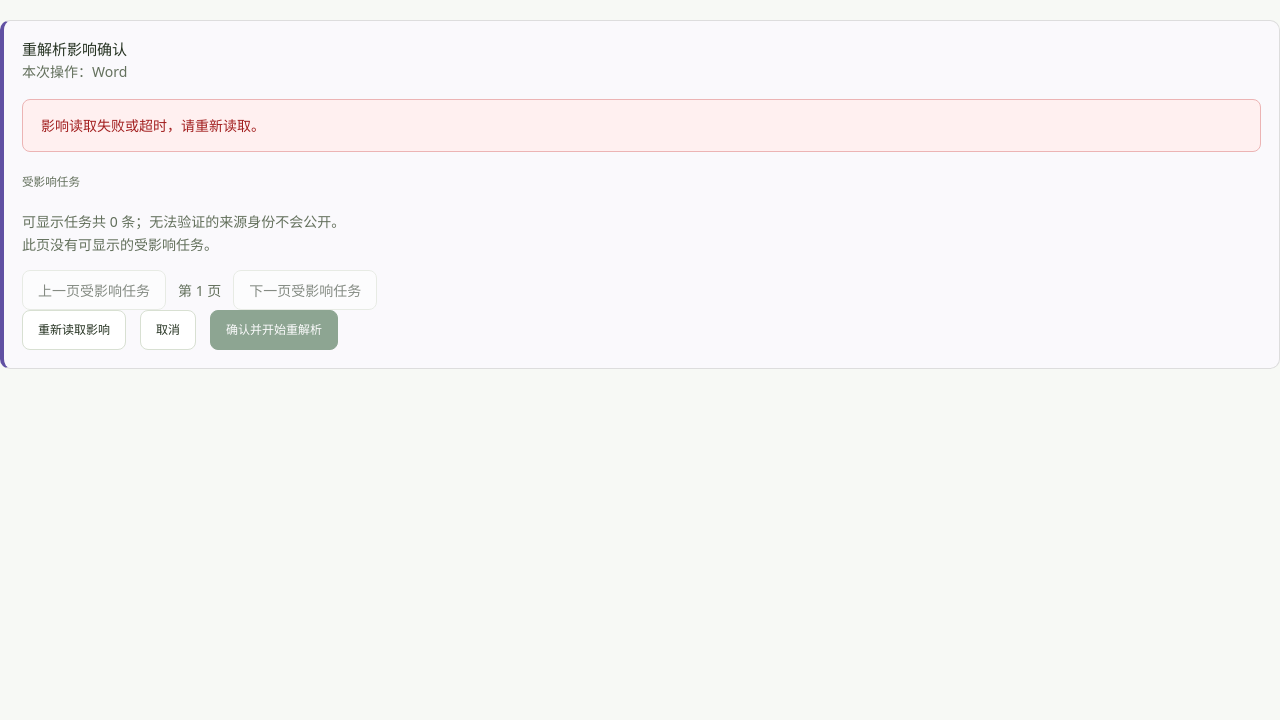
Scenario: assessment timeout is bounded and suppresses the late response after a retry
Expected: the message reads "影响读取失败或超时，请重新读取。", [41, 116, 265, 135]
Click the button "重新读取影响" at (74, 330), box [22, 310, 126, 350]
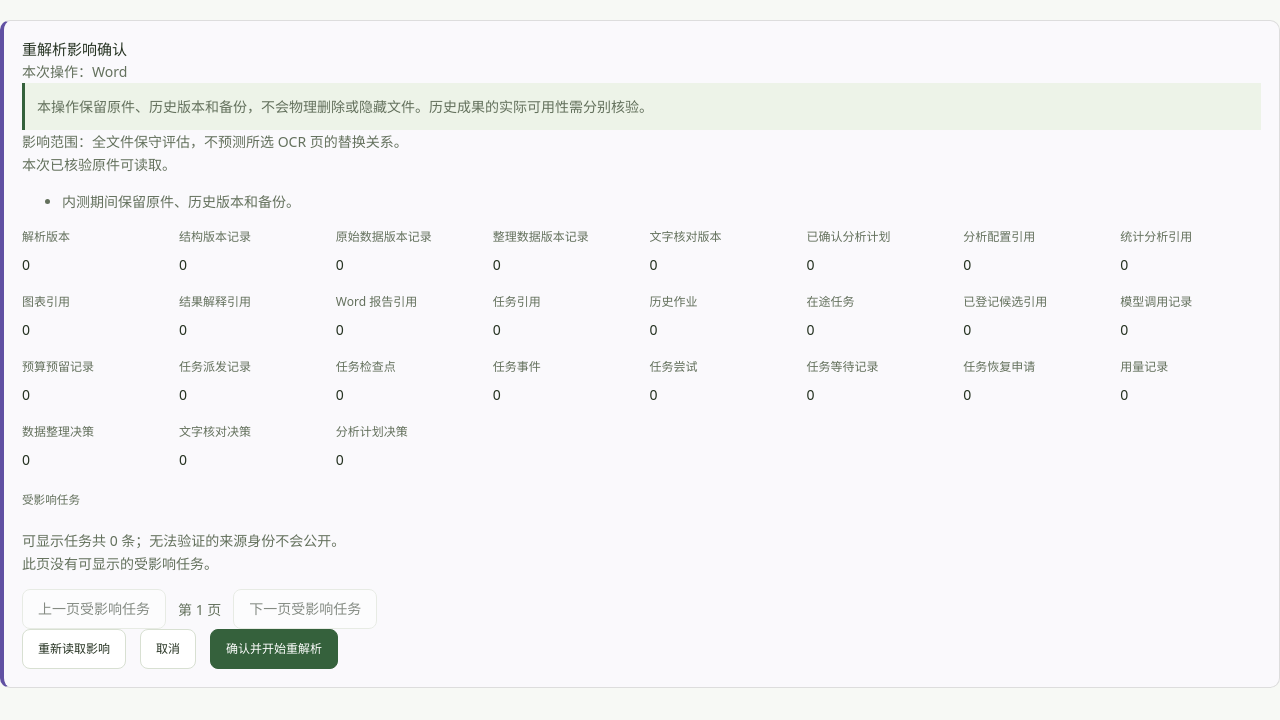
Expected: the button "确认并开始重解析" is enabled, [210, 629, 338, 669]
